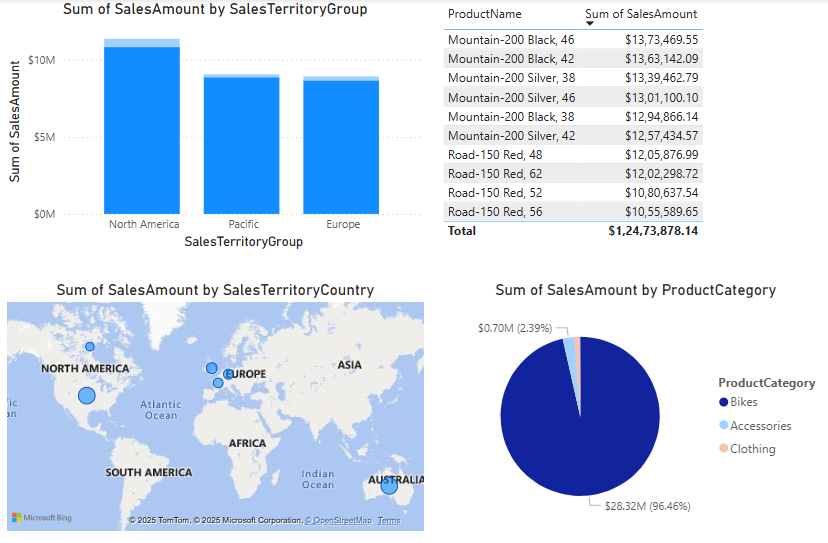

The page's visual inventory and layout, read from the dashboard file:
{"tool":"powerbi","page":{"name":"Page 1","canvas":[1280,720],"ordinal":0},"visuals":[{"type":"columnChart","fields":{"Y":["Sum(Sales.SalesAmount)"],"Category":["Sales.SalesTerritoryGroup"]},"box":[9.6,0,466.6,279.9],"z":0},{"type":"map","fields":{"Category":["Sales.SalesTerritoryCountry"],"Size":["Sum(Sales.SalesAmount)"]},"box":[9.6,308.7,466.6,279.9],"z":1000},{"type":"tableEx","fields":{"Values":["Sales.ProductName","Sum(Sales.SalesAmount)"]},"box":[487.1,0,435,279.9],"z":1001},{"type":"pieChart","fields":{"Category":["Sales.ProductCategory"],"Y":["Sum(Sales.SalesAmount)"]},"box":[487,309,435,280],"z":1002}]}

Visuals, with their boxes on the page's 1280x720 design canvas (x1, y1, x2, y2). These are canvas units, not pixel positions in the 828x543 screenshot, which may show the page scaled, cropped or inside an application window:
columnChart - Sum(Sales.SalesAmount) x Sales.SalesTerritoryGroup: crop(10, 0, 476, 280)
map - Sales.SalesTerritoryCountry x Sum(Sales.SalesAmount): crop(10, 309, 476, 589)
tableEx - Sales.ProductName x Sum(Sales.SalesAmount): crop(487, 0, 922, 280)
pieChart - Sales.ProductCategory x Sum(Sales.SalesAmount): crop(487, 309, 922, 589)
